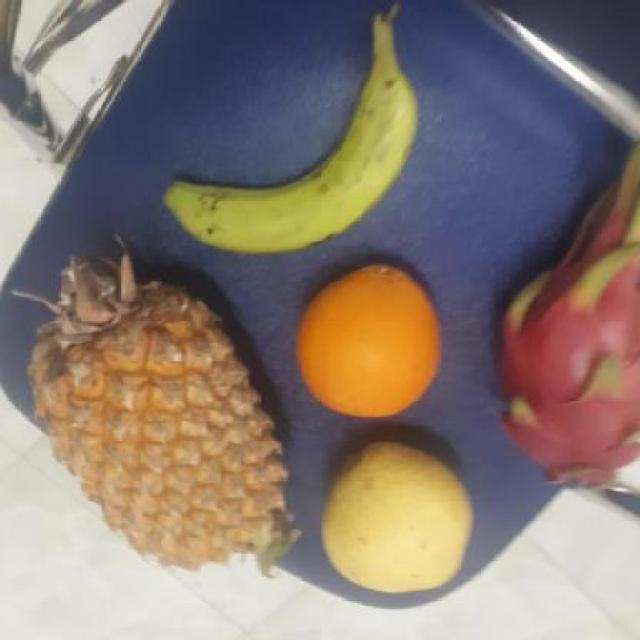banana: (174, 51, 428, 251)
dragon fruit: (494, 258, 638, 492)
oren: (295, 265, 448, 418)
pineapple: (36, 246, 296, 566)
